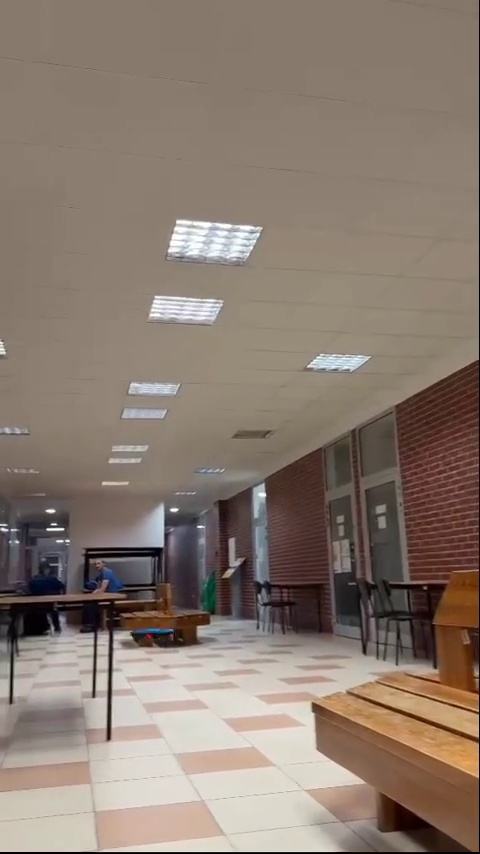drone: (134, 622, 177, 640)
no vest: (83, 554, 125, 611), (26, 557, 62, 614)
